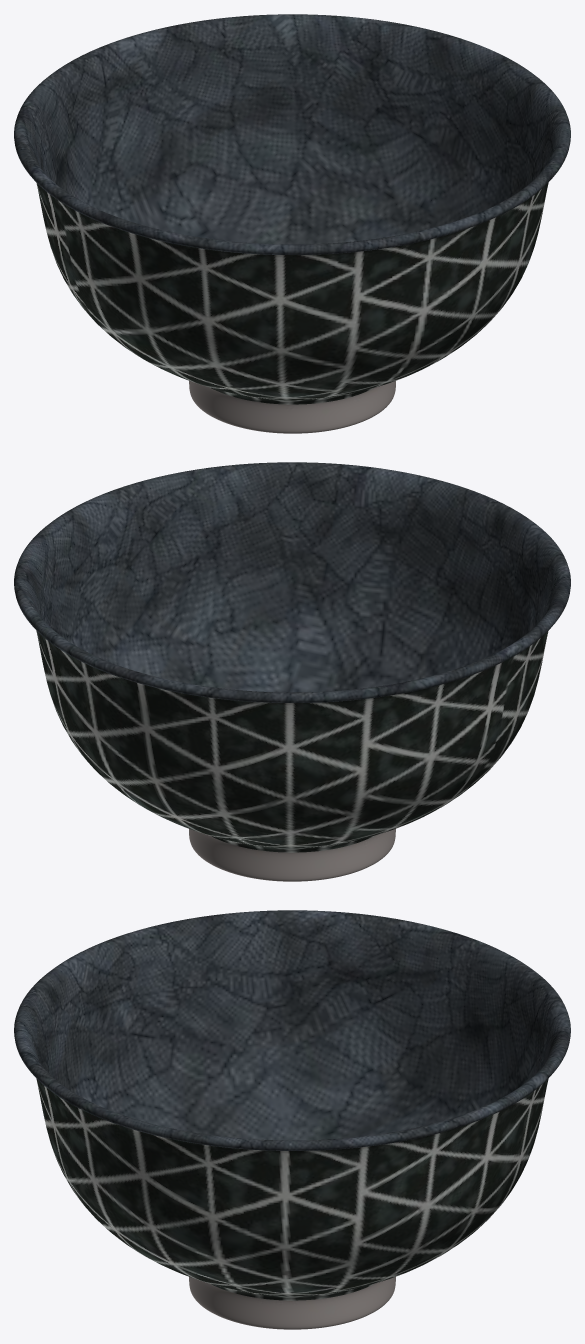
The model's file is bowl_1.glb.
3 views of the same model, one above another, from view 1: azimuth 30°, elevation 25°; view 2: azimuth 150°, elevation 25°; view 3: azimuth 270°, elevation 25° (orthographic).
Visible parts, largest first — view 1: Bowl L Hermitage Cinza e Bege; view 2: Bowl L Hermitage Cinza e Bege; view 3: Bowl L Hermitage Cinza e Bege.
Boxes of the visible parts, x1,y1,x2,y2 form: Bowl L Hermitage Cinza e Bege: (14, 14, 570, 433); Bowl L Hermitage Cinza e Bege: (14, 462, 570, 881); Bowl L Hermitage Cinza e Bege: (14, 910, 570, 1329).
Size of the model in its own units: 0.1304 by 0.0676 by 0.1304.
1 material, 1 textured.
